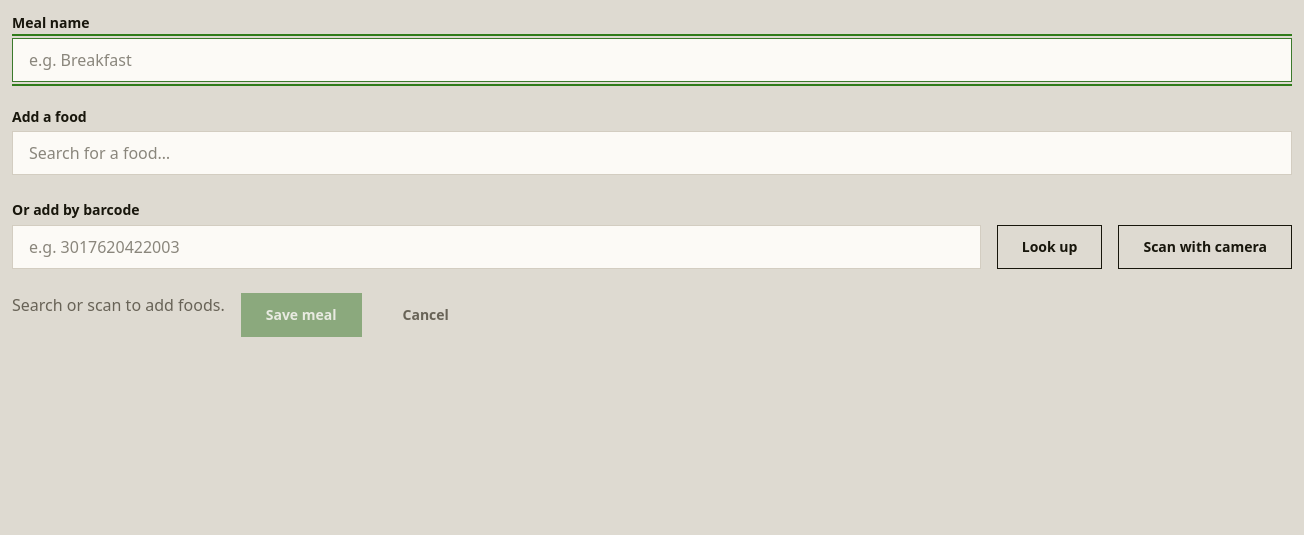
it: MealEditor › toggles a food between its own unit and grams, resetting the amount to that unit's default
Type "6000" into the field labelled "Or add by barcode" at (496, 247), box [12,225,981,269]
Then press Enter
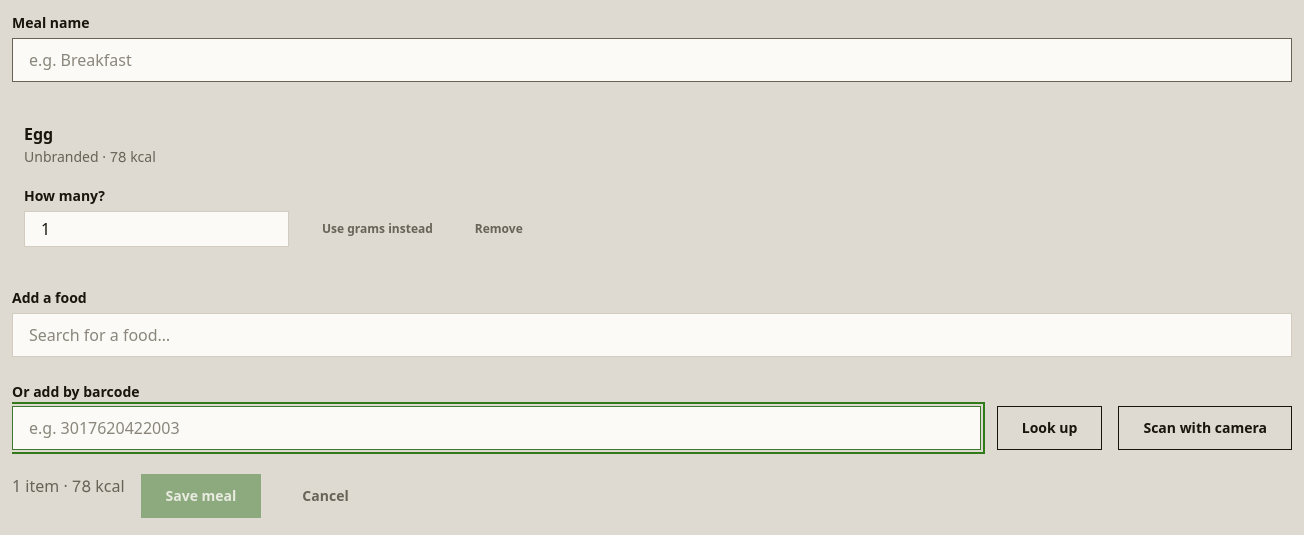
Click the button "Use grams instead" at (377, 229), box [305,211,450,247]
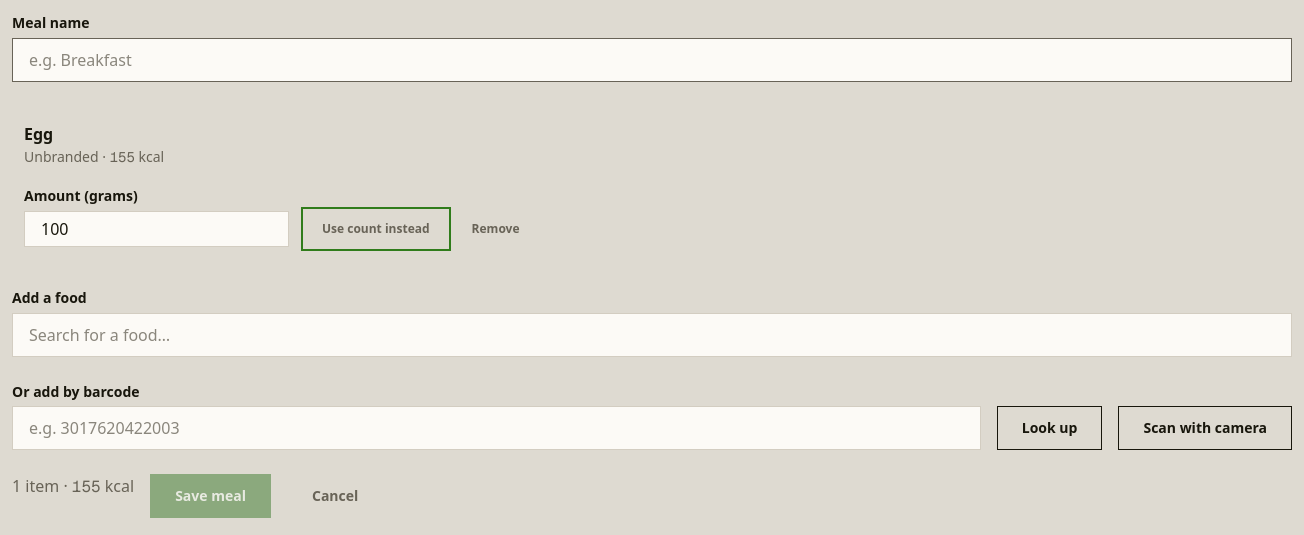
Expected: the number field labelled "Amount (grams)" holds "100", [24,211,289,247]
Click the button "Use count instead" at (376, 229), box [305,211,447,247]
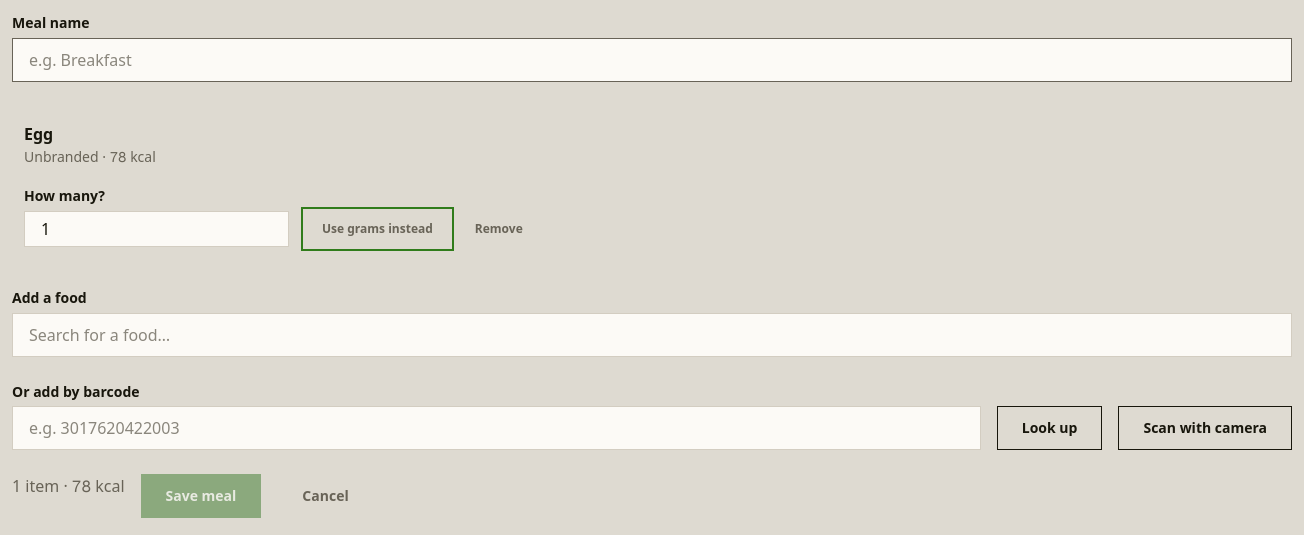
Expected: the number field labelled "How many?" holds "1", [24,211,289,247]
